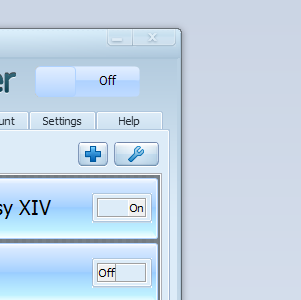close: (132, 27, 176, 47)
